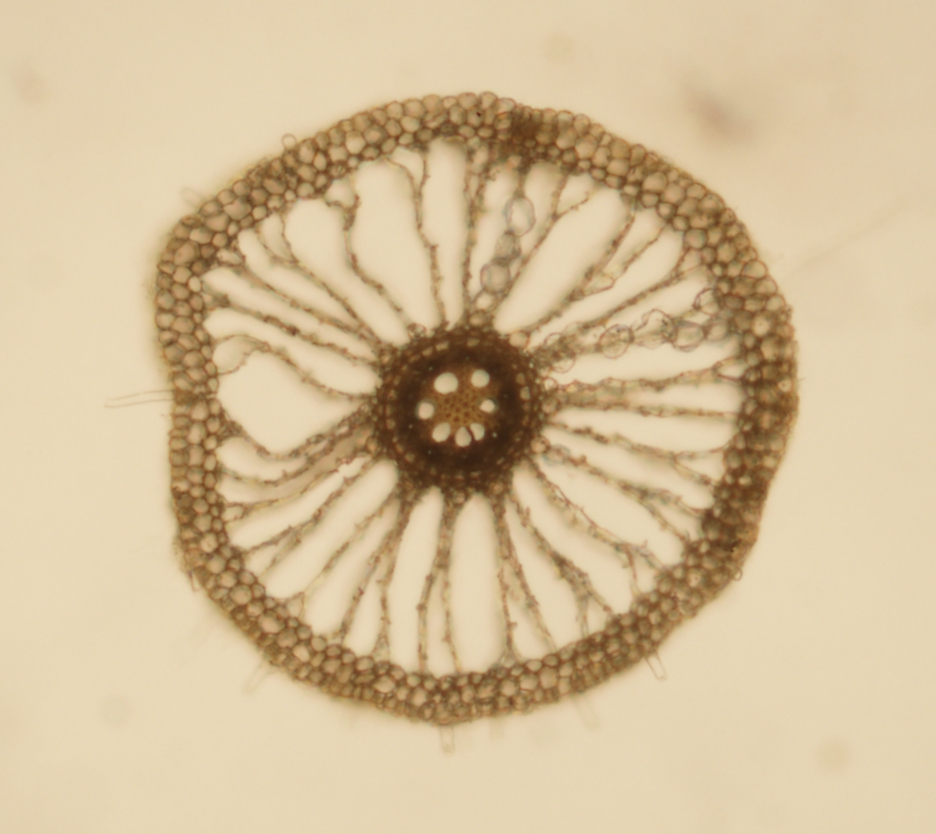lm: (454, 421, 484, 446), (434, 372, 459, 394), (430, 421, 450, 442), (471, 369, 489, 389), (417, 401, 434, 420), (478, 398, 496, 412)
